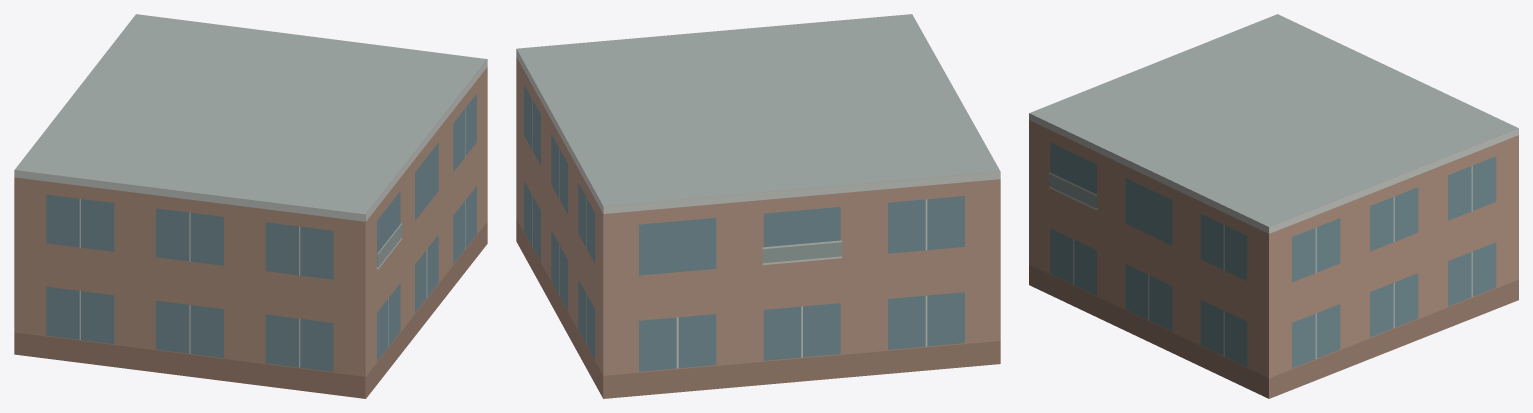
File: survey-upis-32928140.glb
The picture shows the model from 3 angles, left to right: view 1: azimuth 30°, elevation 25°; view 2: azimuth 150°, elevation 25°; view 3: azimuth 270°, elevation 25°; orthographic projection. The views are drawn at different scales.
Parts seen in each view (by area): view 1: survey-upis-32928140.tmp; view 2: survey-upis-32928140.tmp; view 3: survey-upis-32928140.tmp.
Part boxes in pixels (box(x1,y1,x2,y2)): survey-upis-32928140.tmp: box(14, 14, 487, 398); survey-upis-32928140.tmp: box(516, 14, 1000, 398); survey-upis-32928140.tmp: box(1029, 14, 1518, 398).
Size of the model in its own units: 16.23 by 6.1 by 15.77.
